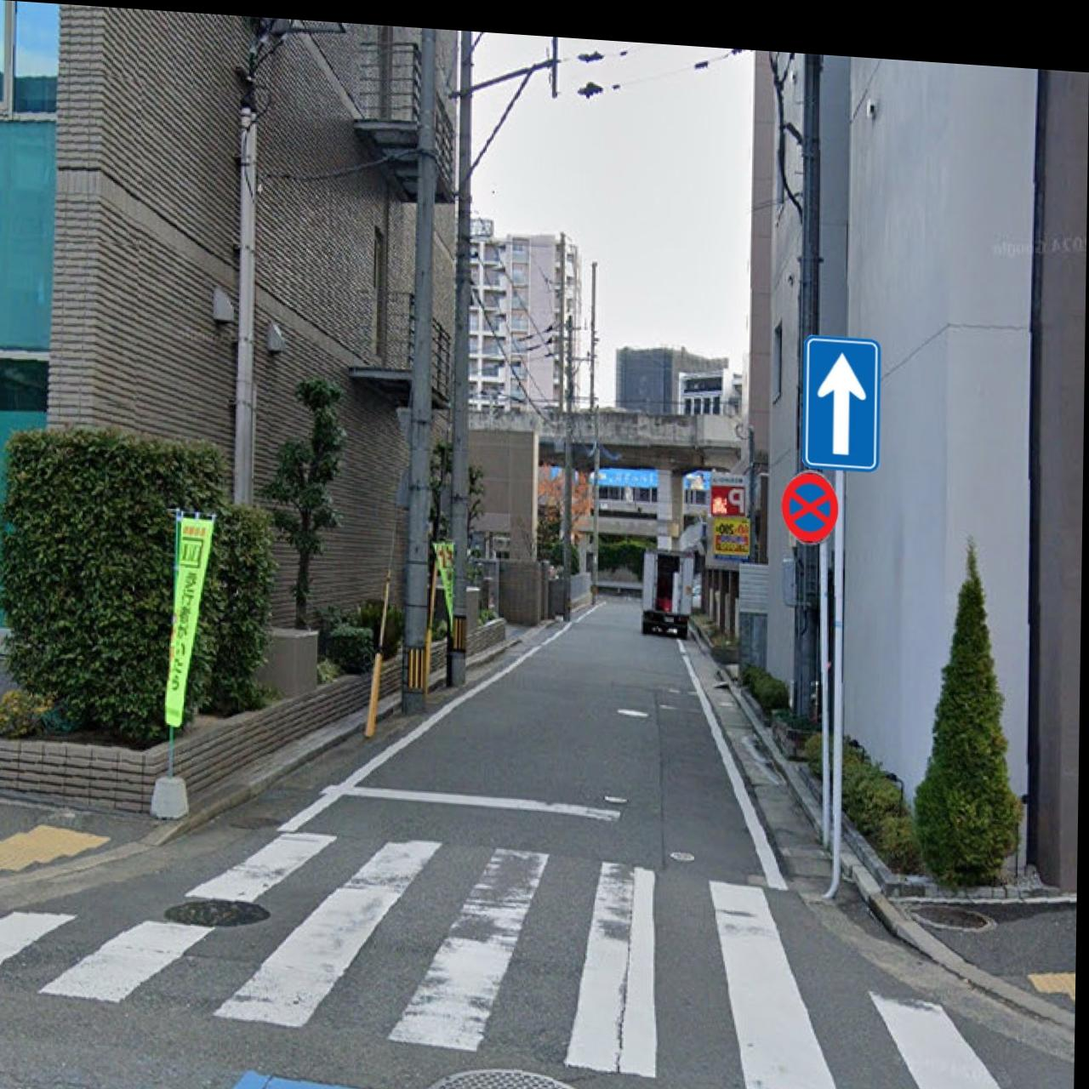stop_sign: (781, 468, 838, 548)
